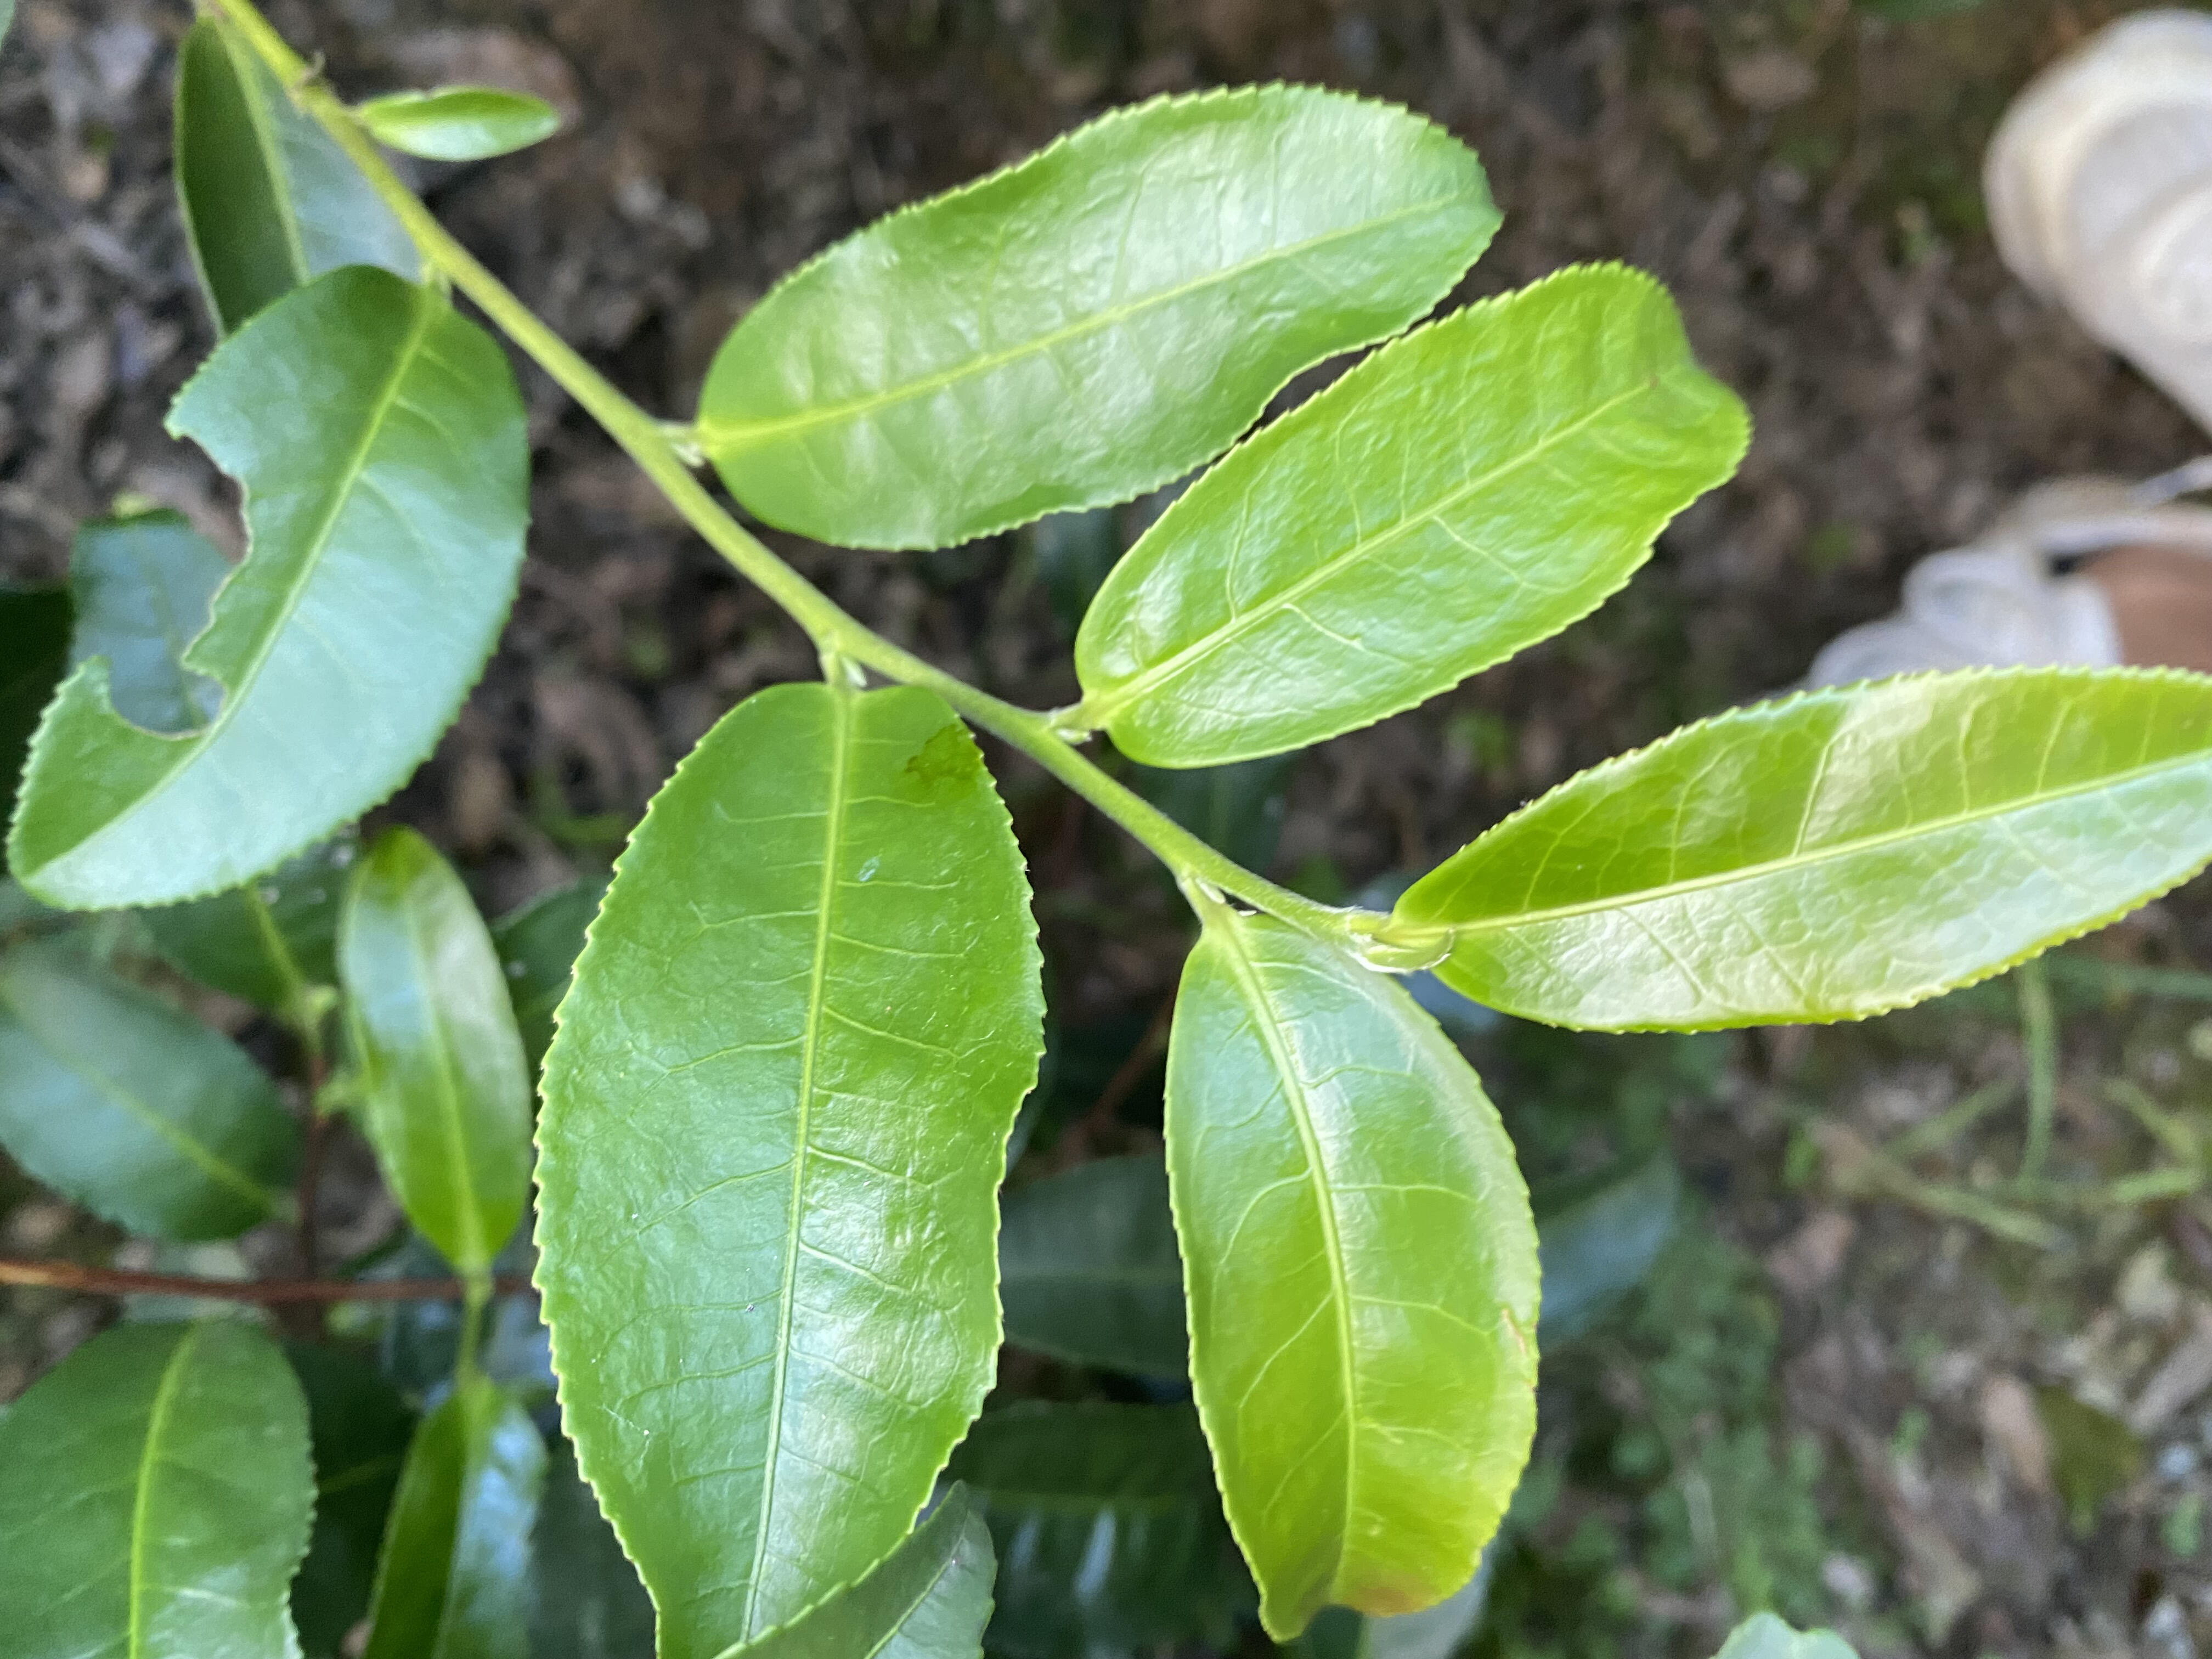chihuo_high: (9, 263, 535, 915)
healthy: (533, 678, 1052, 1657), (697, 75, 1510, 559), (1066, 254, 1757, 774), (1393, 660, 2210, 1035), (1158, 911, 1550, 1643)
